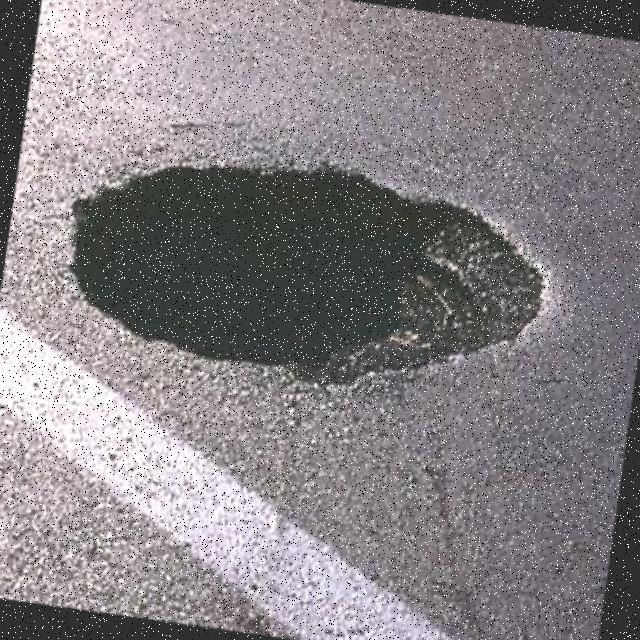Pothole: (70, 167, 545, 385)
